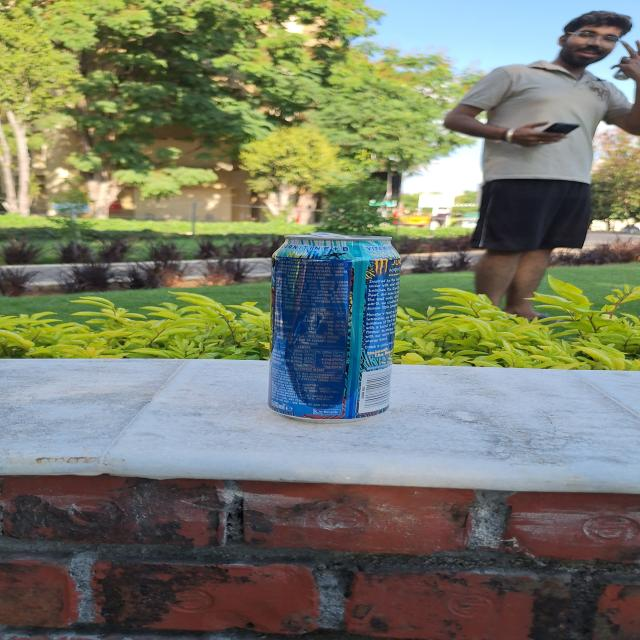Monster Aussie Lemonade: (270, 238, 408, 414)
